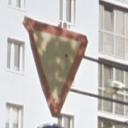preferencia: (20, 12, 89, 120)
